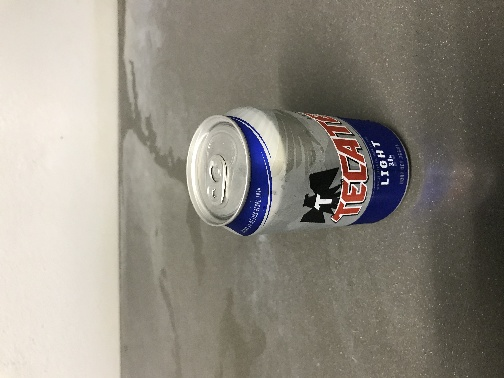TLL: (135, 76, 299, 172)
